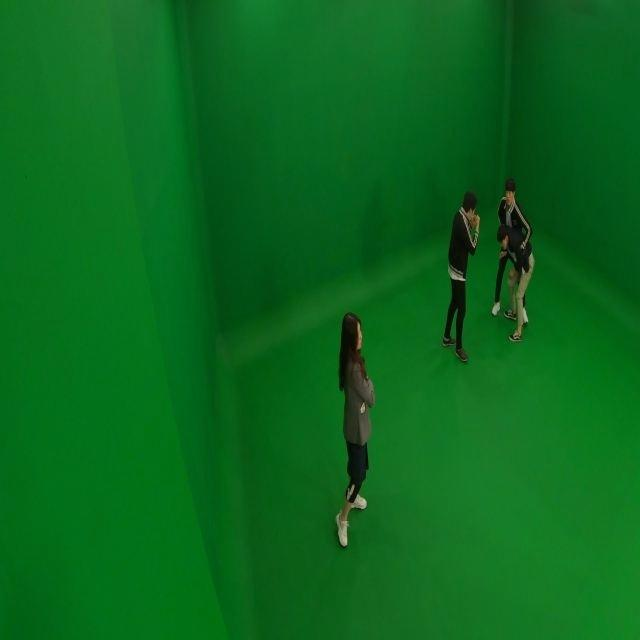fight: (443, 190, 475, 360), (503, 186, 535, 338)
non-fight: (336, 310, 374, 550), (490, 179, 529, 327)
